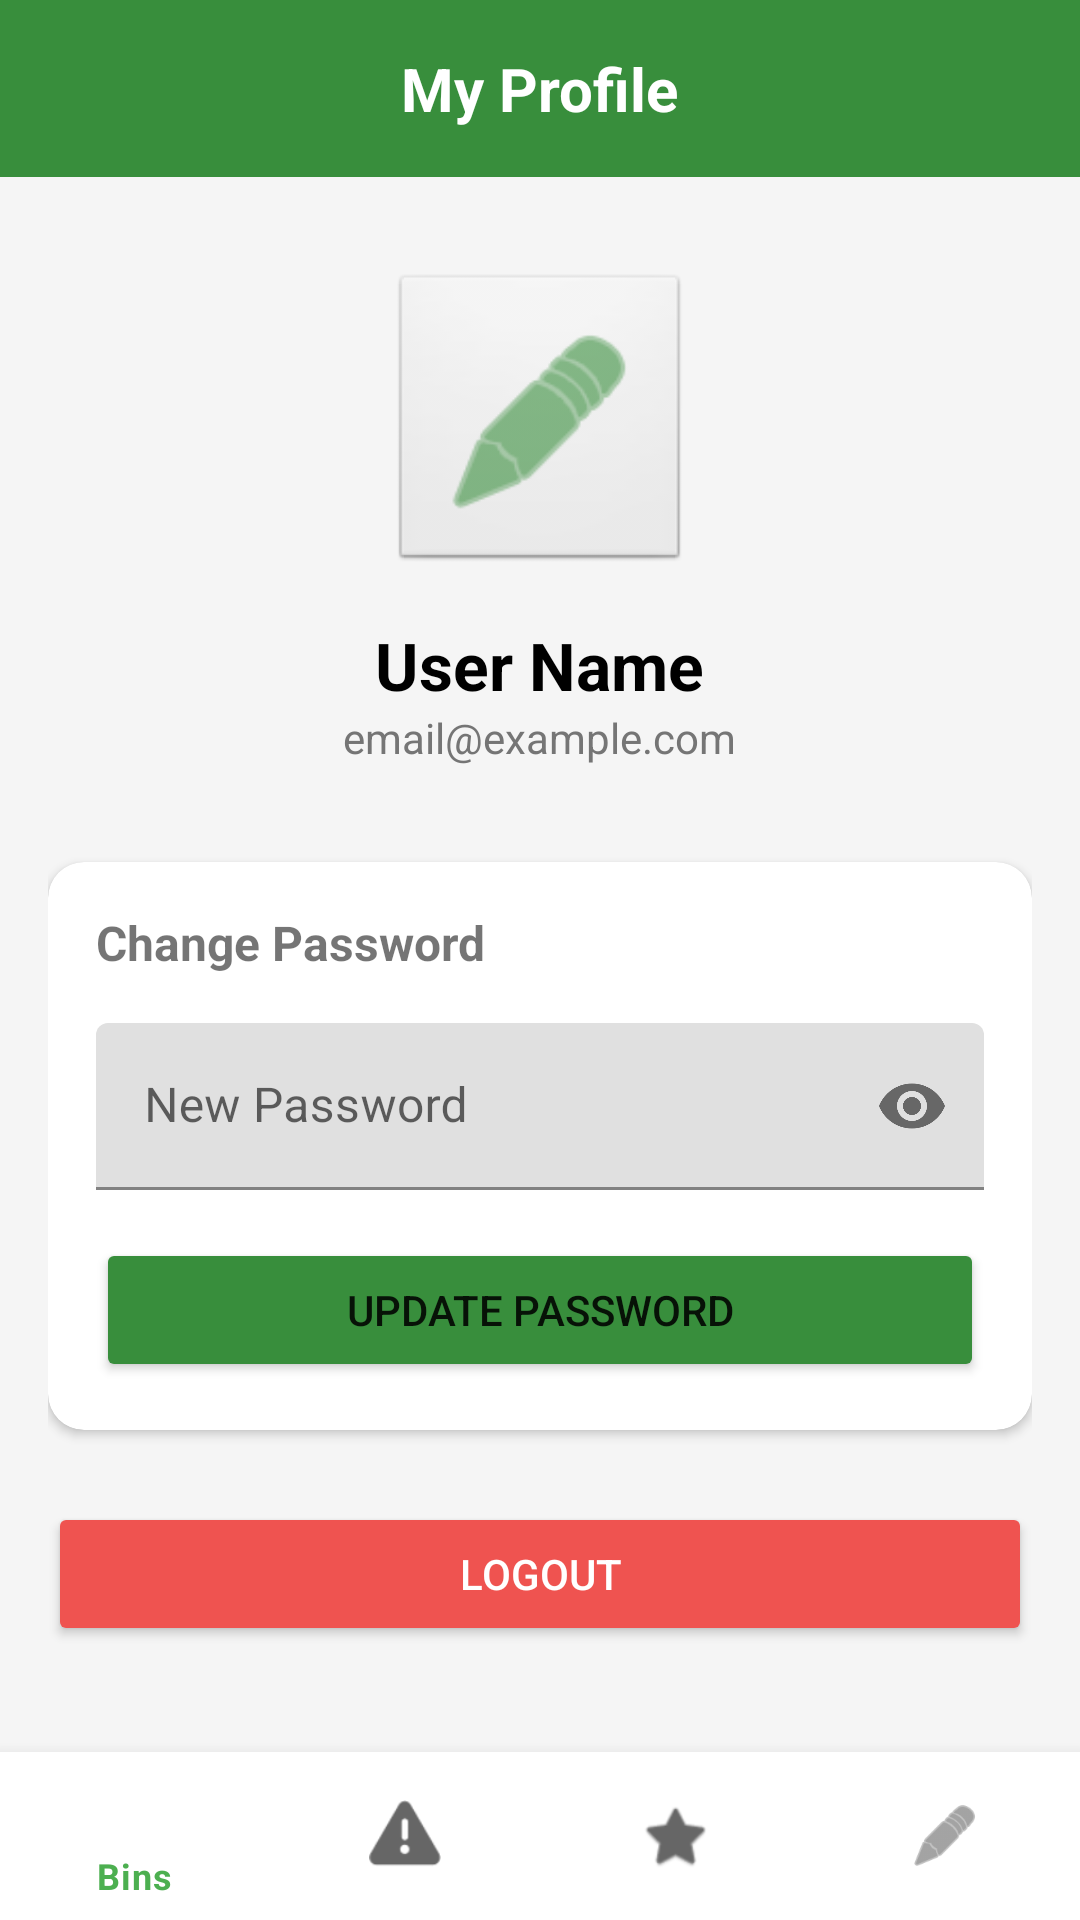

Icon click points for this 1080×1920 phone screenshot, format [x,y]:
edit: [539,419]
